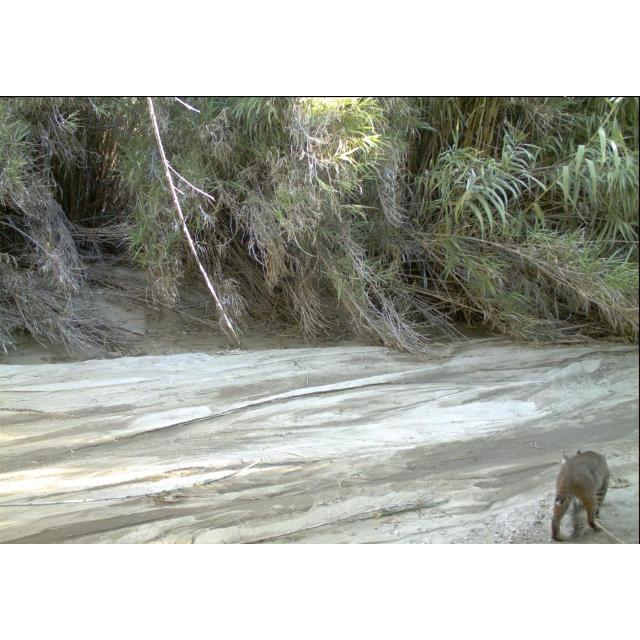animals: (550, 446, 614, 544)
